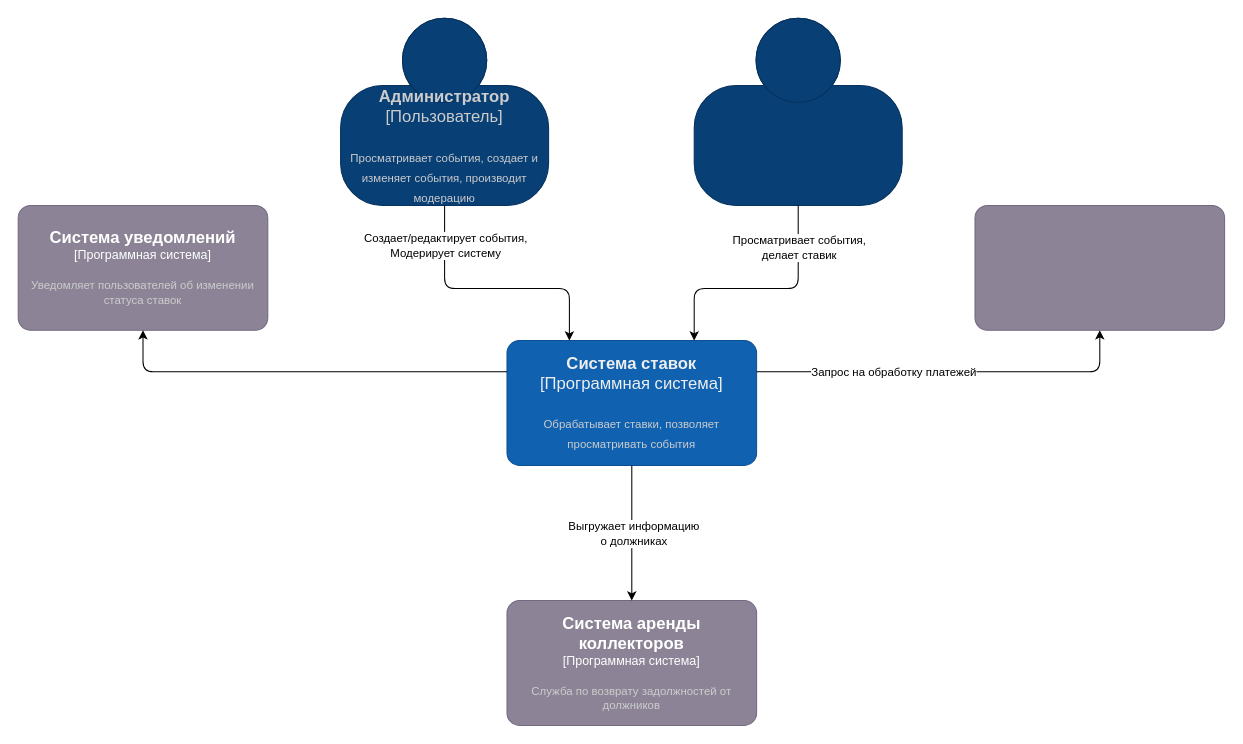
Image size: 1243x744. Some labels were removed from this diagram. Each missing label, with the centre of its shape:
Система оплаты [Программная система] Обеспечивает работу интернет-платежей: (1099,267)
Студент [Пользователь] Просматривает события, делает ставки: (797,111)
